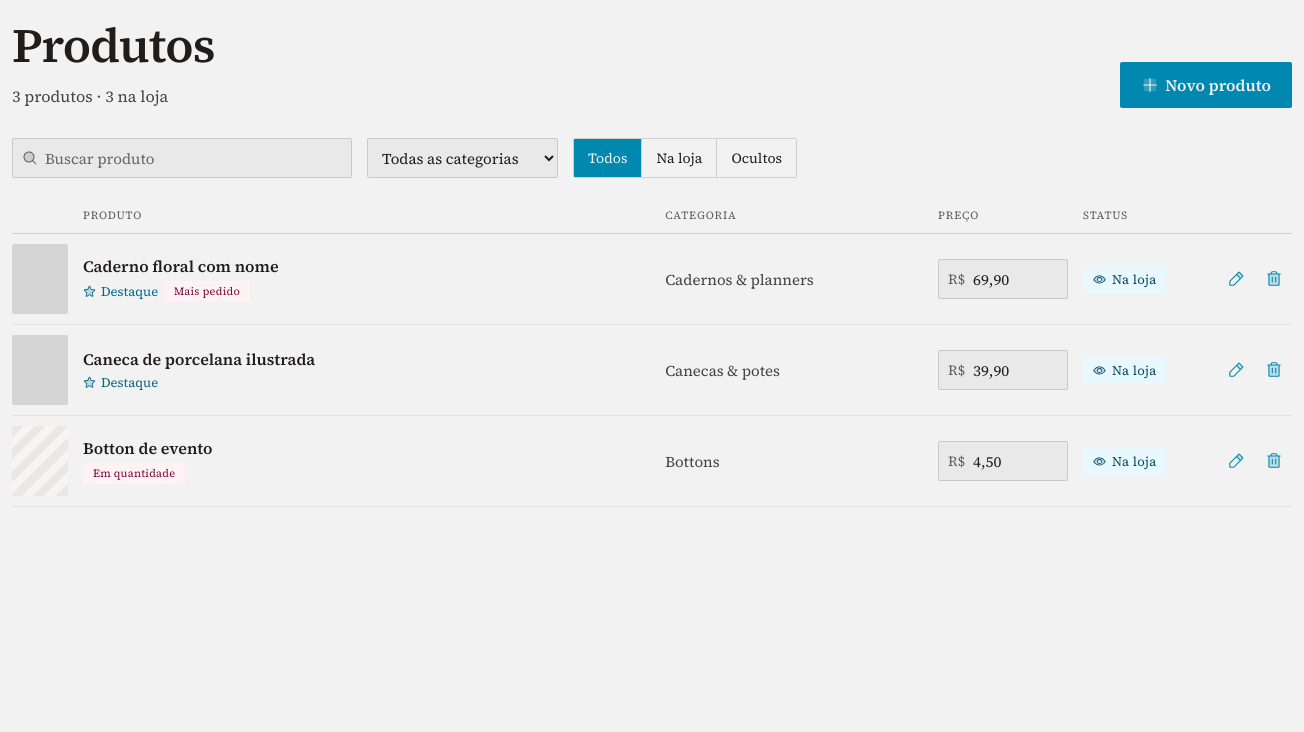
Test case: ProductsPanel › hides a product from the store
Click the button "Na loja" in the row of "Cadernos & planners" at (1125, 279), box [1083, 266, 1167, 292]
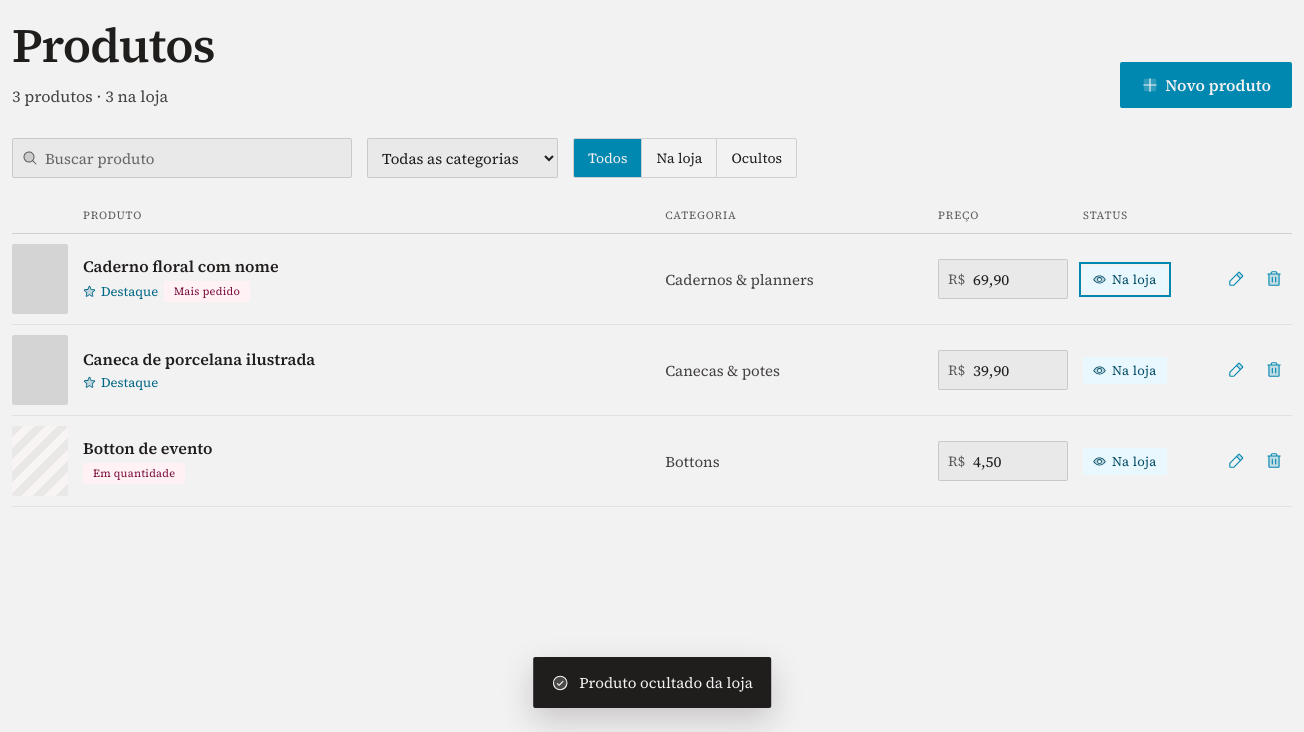
expect the message reads "Produto ocultado da loja": met, box [579, 672, 753, 693]
